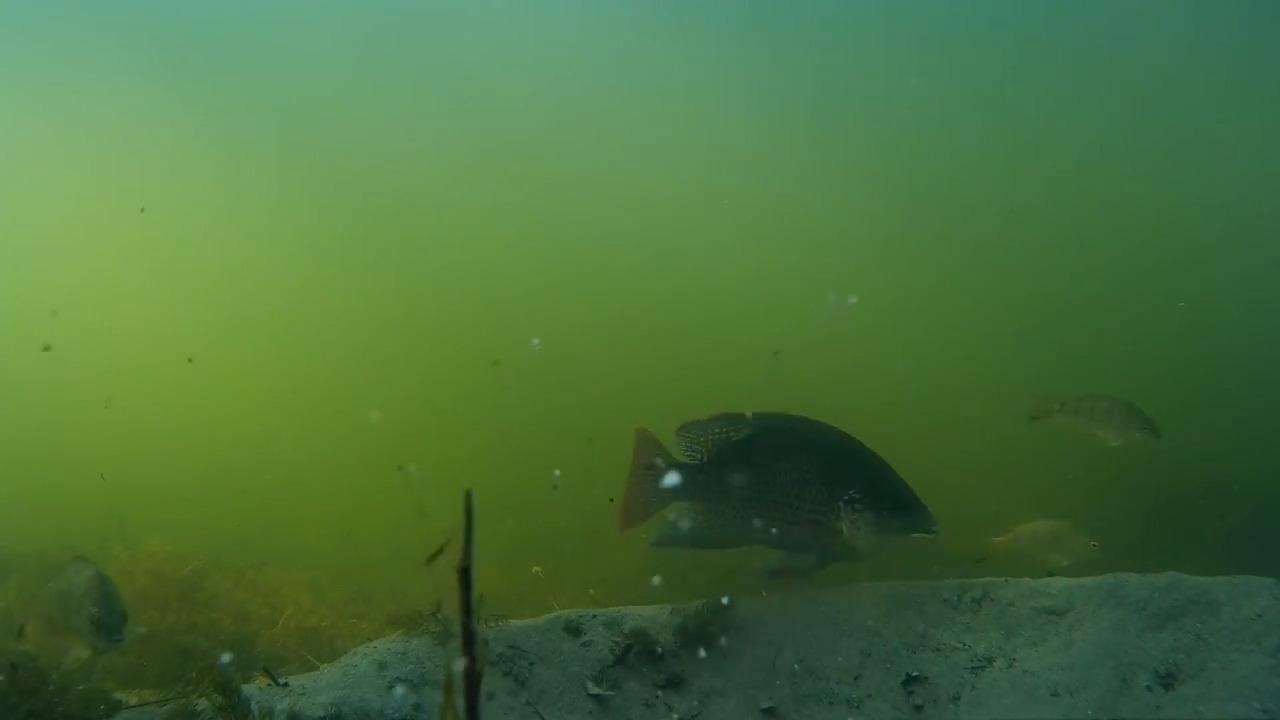Tilapia: (626, 404, 951, 586), (980, 512, 1127, 606), (27, 546, 137, 670), (1030, 394, 1169, 462)
